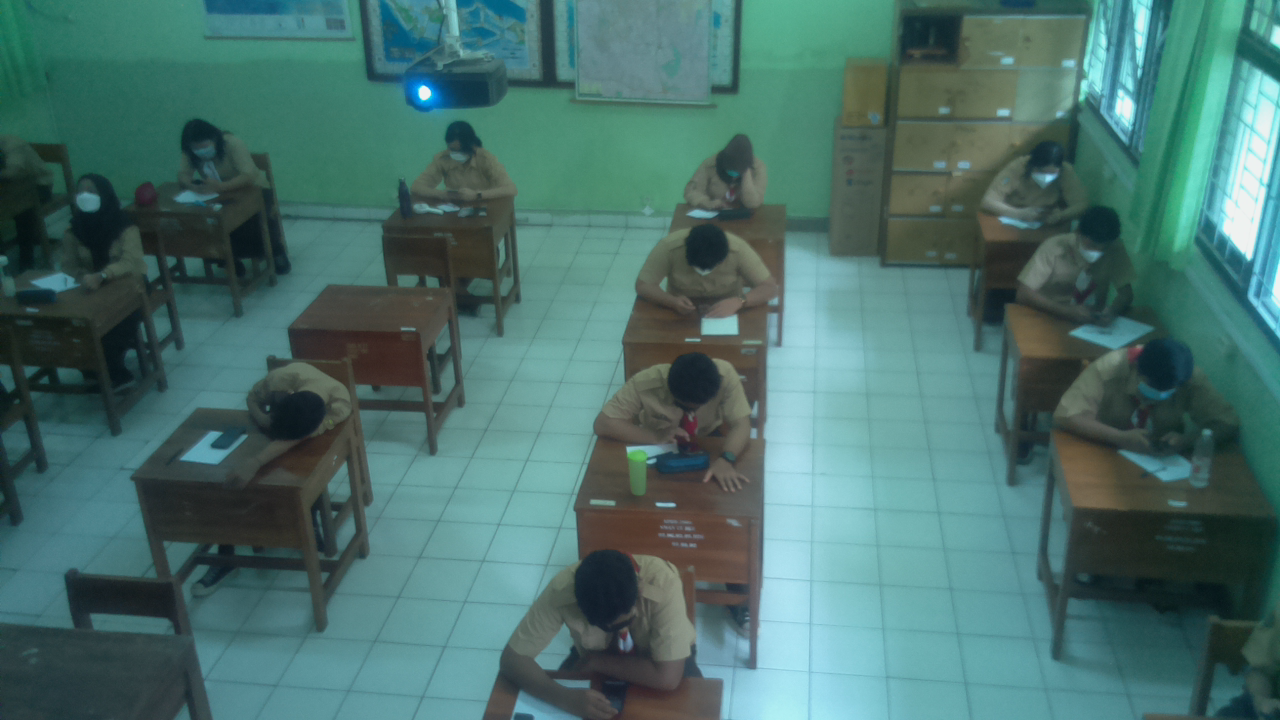Student: (535, 549, 694, 675), (1067, 337, 1205, 442), (623, 355, 751, 437), (1031, 207, 1133, 306), (59, 173, 148, 273), (651, 223, 762, 300), (415, 123, 514, 202), (255, 359, 348, 438), (987, 143, 1081, 213), (687, 133, 766, 214), (173, 121, 258, 184)
